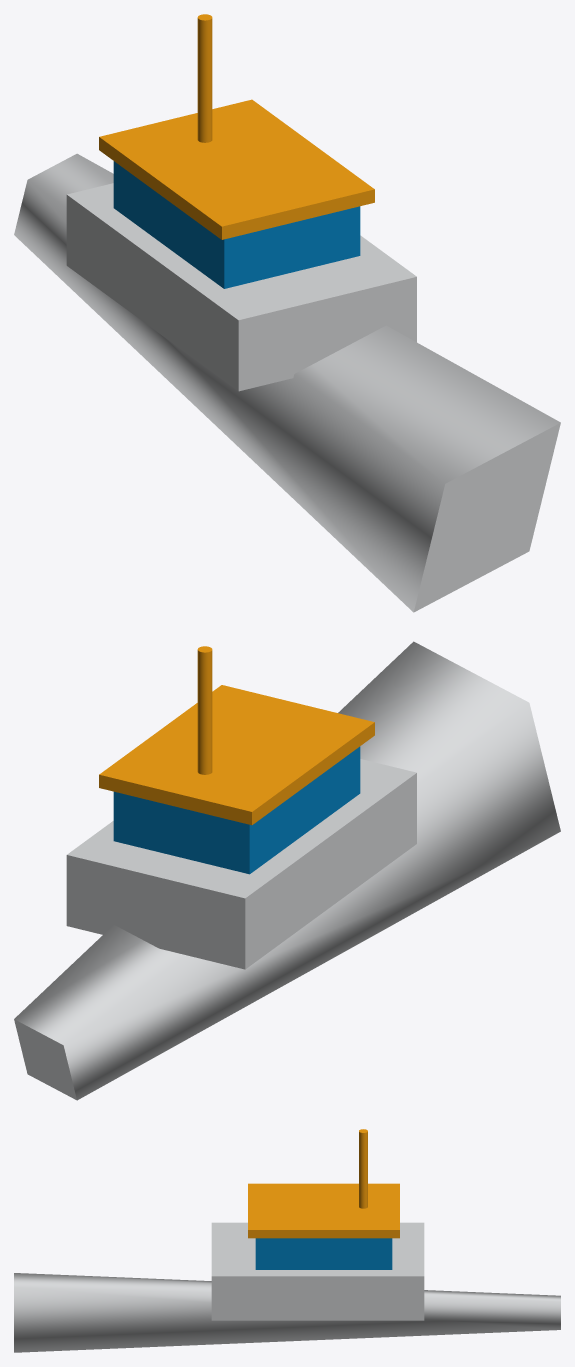
Rendered from luxury_yacht.glb.
3 renders of one model, top to bottom at view 1: azimuth 30°, elevation 25°; view 2: azimuth 150°, elevation 25°; view 3: azimuth 270°, elevation 25°, orthographic. The views are drawn at different scales.
Parts seen in each view (by area): view 1: LuxuryYacht; view 2: LuxuryYacht; view 3: LuxuryYacht.
Part boxes in pixels (<box>): LuxuryYacht: <box>14,14,560,612</box>; LuxuryYacht: <box>14,641,560,1100</box>; LuxuryYacht: <box>14,1129,560,1352</box>.
Bounding box in the file's own units: 0.42 × 0.8332 × 1.8.
